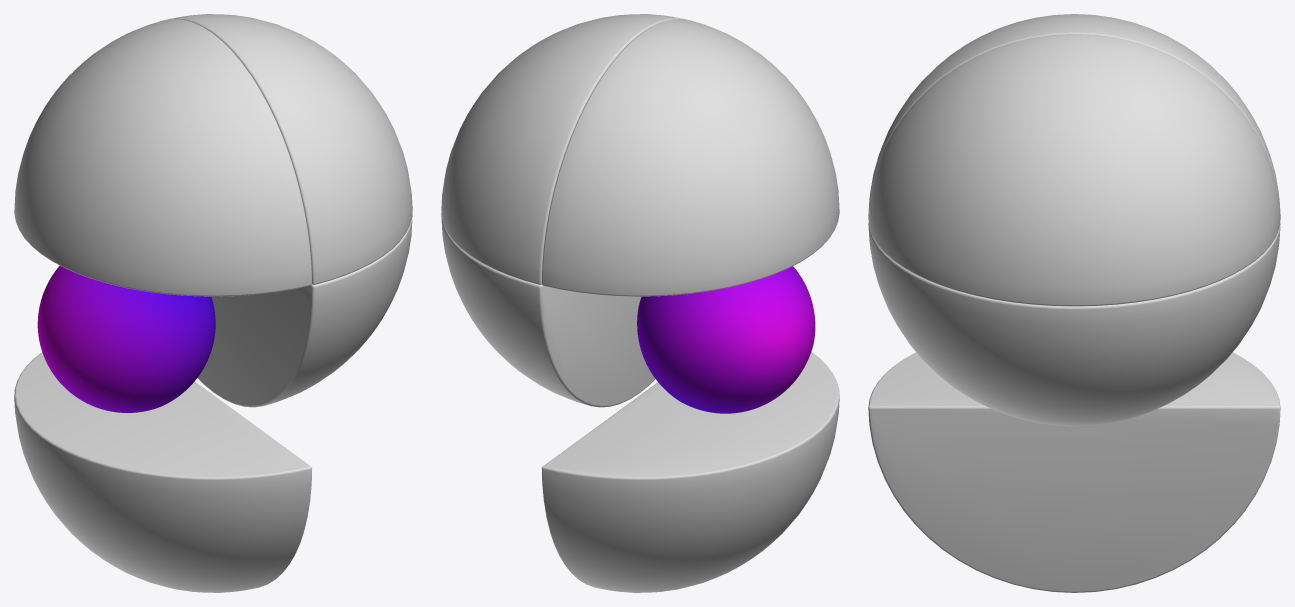
Rendered from plutosphere-low.glb.
The picture shows the model from 3 angles, left to right: view 1: azimuth 30°, elevation 25°; view 2: azimuth 150°, elevation 25°; view 3: azimuth 270°, elevation 25°; orthographic projection. The views are drawn at different scales.
Visible parts, largest first — view 1: TopLeft, BottomLeft, TopRight, Presence.Primary, BottomRight; view 2: TopLeft, BottomLeft, TopRight, Presence.Primary, BottomRight; view 3: TopRight, BottomLeft, BottomRight, TopLeft.
Boxes of the visible parts, left/top/right/bottom form: TopLeft: left=14, top=19, right=311, bottom=296; BottomLeft: left=14, top=352, right=312, bottom=592; TopRight: left=166, top=14, right=412, bottom=284; Presence.Primary: left=37, top=266, right=215, bottom=412; BottomRight: left=197, top=212, right=412, bottom=407; TopLeft: left=542, top=19, right=839, bottom=296; BottomLeft: left=541, top=352, right=839, bottom=592; TopRight: left=441, top=14, right=687, bottom=284; Presence.Primary: left=637, top=266, right=815, bottom=413; BottomRight: left=441, top=212, right=655, bottom=407; TopRight: left=868, top=34, right=1280, bottom=306; BottomLeft: left=868, top=352, right=1280, bottom=592; BottomRight: left=868, top=223, right=1280, bottom=426; TopLeft: left=868, top=14, right=1280, bottom=215.
Bounding box in the file's own units: 2 × 3 × 2.
2 materials, 1 textured.
